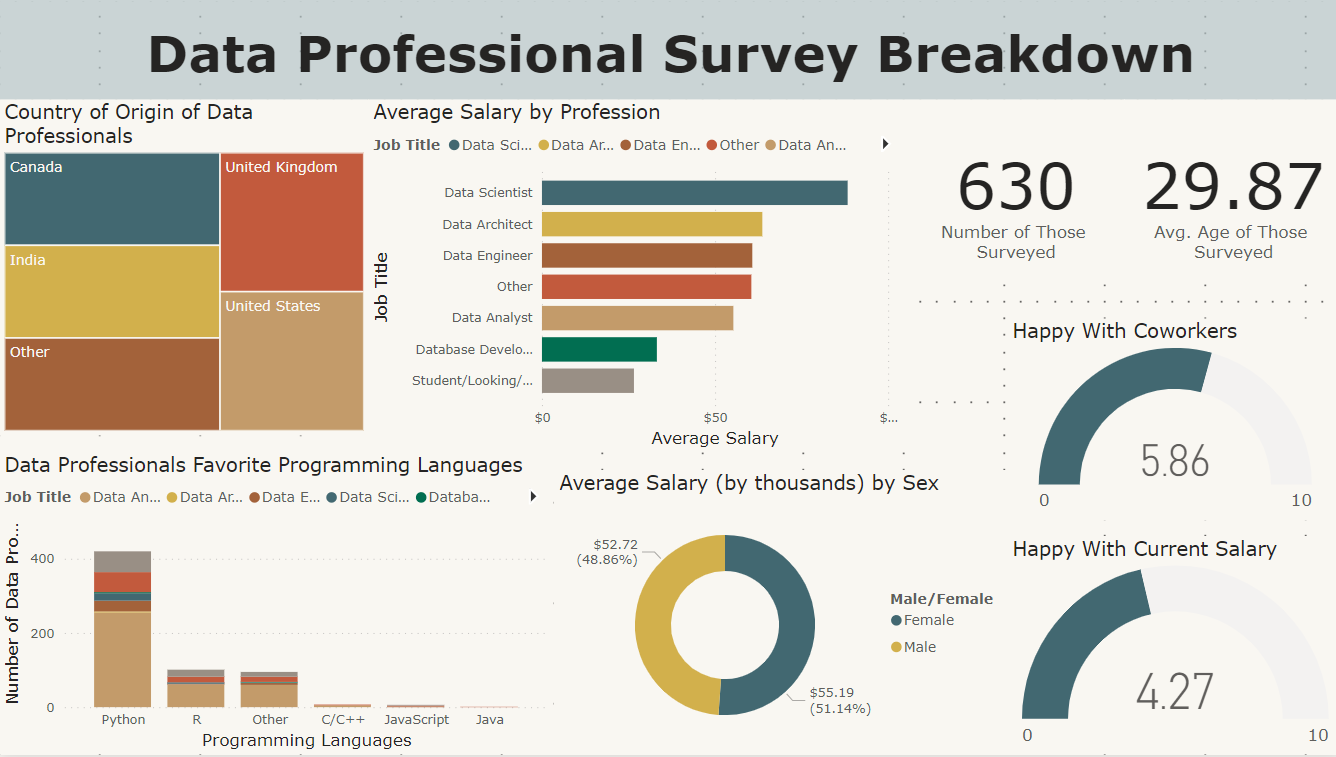

The dashboard page shown, as its layout file describes it:
{"tool":"powerbi","page":{"name":"Dashboard","canvas":[1280,720],"ordinal":0},"visuals":[{"type":"textbox","box":[0,0,1280,96],"z":0},{"type":"card","fields":{"Values":["Count(Data Professional Survey.Unique ID)"]},"box":[864,96,208,176],"z":1000},{"type":"card","fields":{"Values":["Avg(Data Professional Survey.Q10 - Current Age)"]},"box":[1072,96,208,176],"z":2000},{"type":"barChart","title":"Average Salary by Profession","fields":{"Category":["Data Professional Survey.Q1 - Which Title Best Fits your Current Role?.1"],"Y":["Avg(Data Professional Survey.Average Salary)"],"Series":["Data Professional Survey.Q1 - Which Title Best Fits your Current Role?.1"]},"box":[352,96,512,336],"z":3000},{"type":"columnChart","title":"Data Professionals Favorite Programming Languages","fields":{"Category":["Data Professional Survey.Q5 - Favorite Programming Language.1"],"Y":["CountNonNull(Data Professional Survey.Unique ID)"],"Series":["Data Professional Survey.Q1 - Which Title Best Fits your Current Role?.1"]},"box":[0,432,528,288],"z":4000},{"type":"treemap","title":"Country of Origin of Data Professionals","fields":{"Group":["Data Professional Survey.Q11 - Which Country do you live in?.1"],"Values":["Count(Data Professional Survey.Q11 - Which Country do you live in?.1)"]},"box":[0,96,352,320],"z":5000},{"type":"gauge","title":"Happy With Current Salary","fields":{"Y":["Avg(Data Professional Survey.Q6 - How Happy are you in your Current Position with the following? (Salary))"],"MinValue":["Min(Data Professional Survey.Q6 - How Happy are you in your Current Position with the following? (Salary))"],"MaxValue":["Max(Data Professional Survey.Q6 - How Happy are you in your Current Position with the following? (Salary))"]},"box":[960,512,320,208],"z":5001},{"type":"gauge","title":"Happy With Coworkers","fields":{"Y":["Avg(Data Professional Survey.Q6 - How Happy are you in your Current Position with the following? (Coworkers))"],"MinValue":["Min(Data Professional Survey.Q6 - How Happy are you in your Current Position with the following? (Coworkers))"],"MaxValue":["Max(Data Professional Survey.Q6 - How Happy are you in your Current Position with the following? (Coworkers))1"]},"box":[960,304,320,192],"z":5002},{"type":"donutChart","title":"Average Salary (by thousands) by Sex","fields":{"Category":["Data Professional Survey.Q9 - Male/Female?"],"Y":["Avg(Data Professional Survey.Average Salary)"]},"box":[528,448,432,272],"z":5003}]}

Visuals, with their boxes in screenshot pixels (x1, y1, x2, y2), scaled from the page's 1280x720 canvas onto the 1336x757 screenshot:
textbox: [x1=0, y1=0, x2=1335, y2=101]
card - Count(Data Professional Survey.Unique ID): [x1=902, y1=101, x2=1119, y2=286]
card - Avg(Data Professional Survey.Q10 - Current Age): [x1=1119, y1=101, x2=1335, y2=286]
"Average Salary by Profession" barChart: [x1=367, y1=101, x2=902, y2=454]
"Data Professionals Favorite Programming Languages" columnChart: [x1=0, y1=454, x2=551, y2=756]
"Country of Origin of Data Professionals" treemap: [x1=0, y1=101, x2=367, y2=437]
"Happy With Current Salary" gauge: [x1=1002, y1=538, x2=1335, y2=756]
"Happy With Coworkers" gauge: [x1=1002, y1=320, x2=1335, y2=521]
"Average Salary (by thousands) by Sex" donutChart: [x1=551, y1=471, x2=1002, y2=756]
